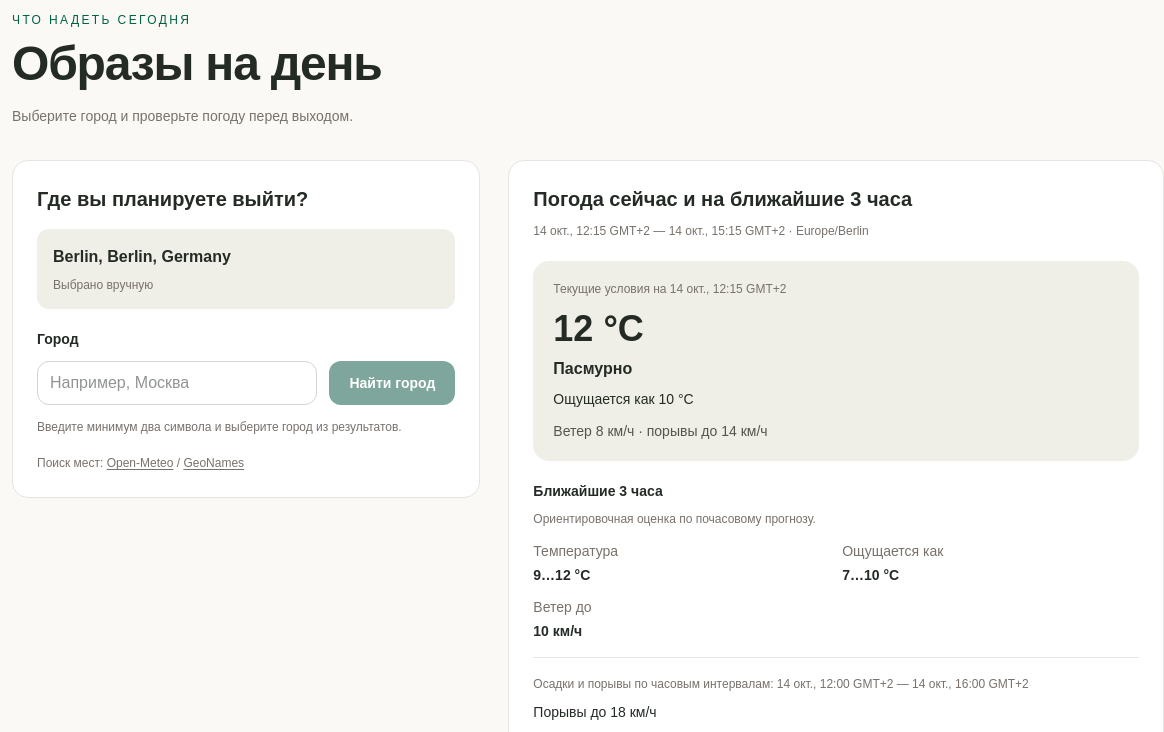
Test case: personal place and weather › searches and explicitly saves a city, then requests weather for the new version
The image size is (1164, 732).
In the field labelled "Город": (177, 383) [37, 361, 318, 405], type "Москва"
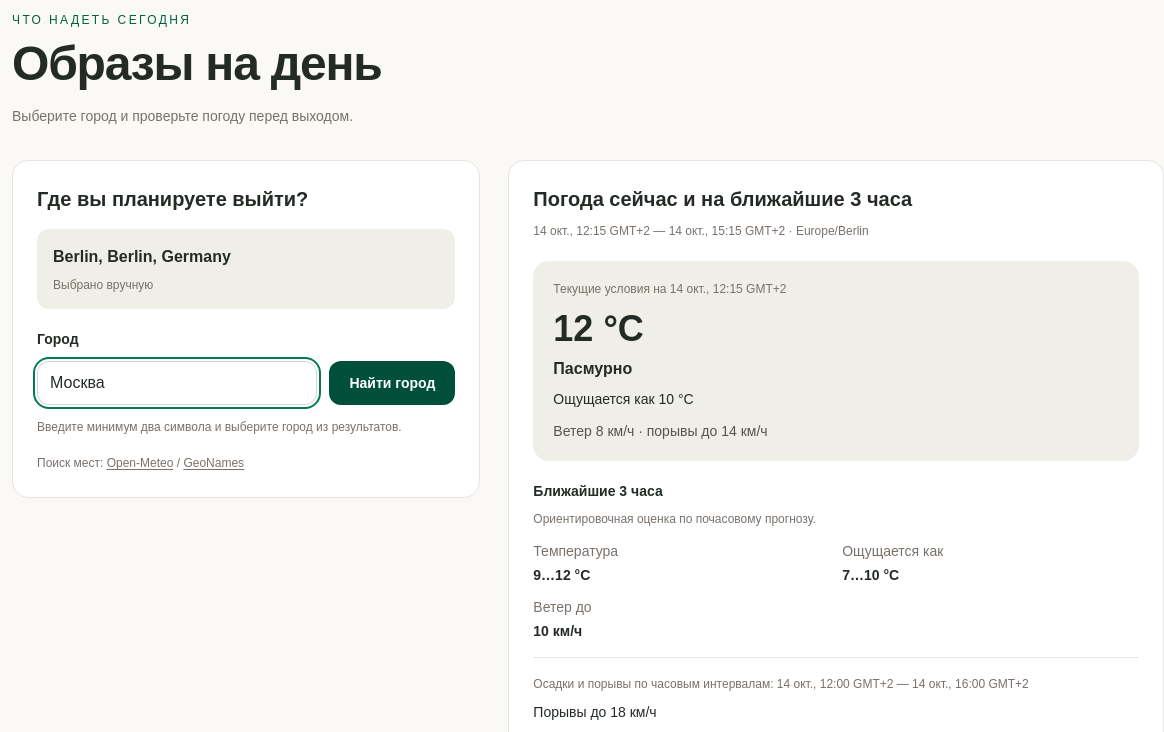
Click the button "Найти город": (392, 383) [330, 361, 455, 405]
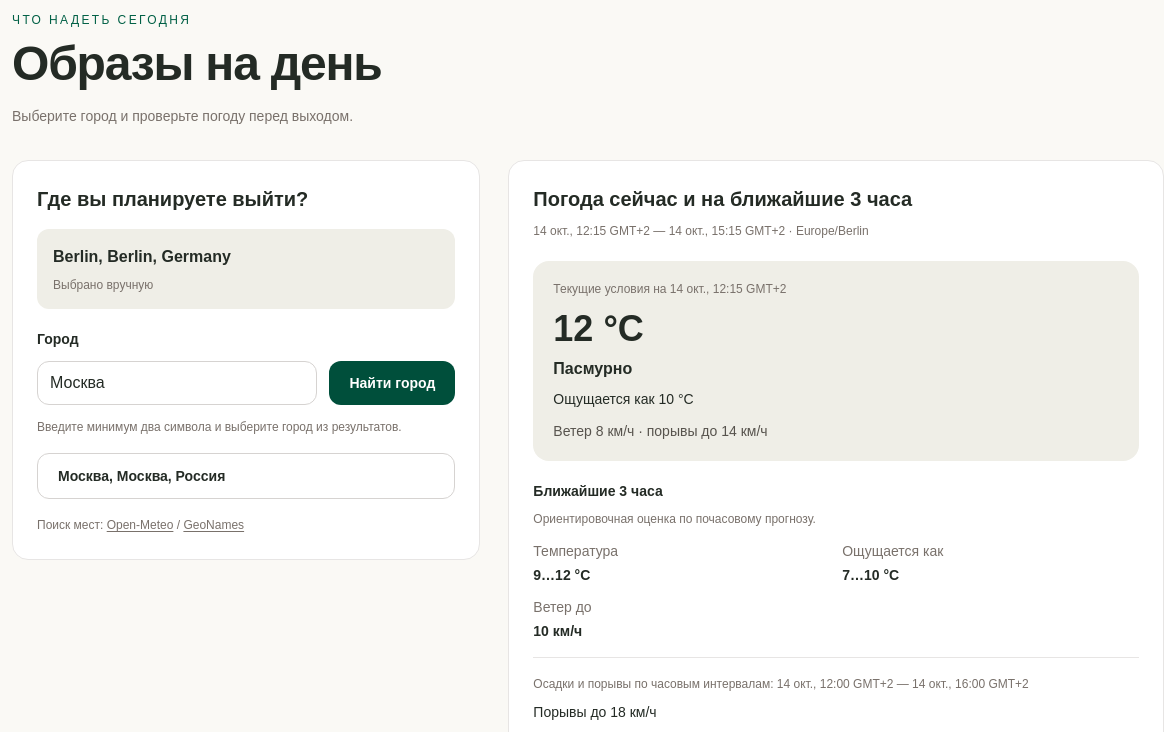
Click the button with aria-label "Выбрать Москва, Москва, Россия": (142, 476) [37, 453, 455, 499]
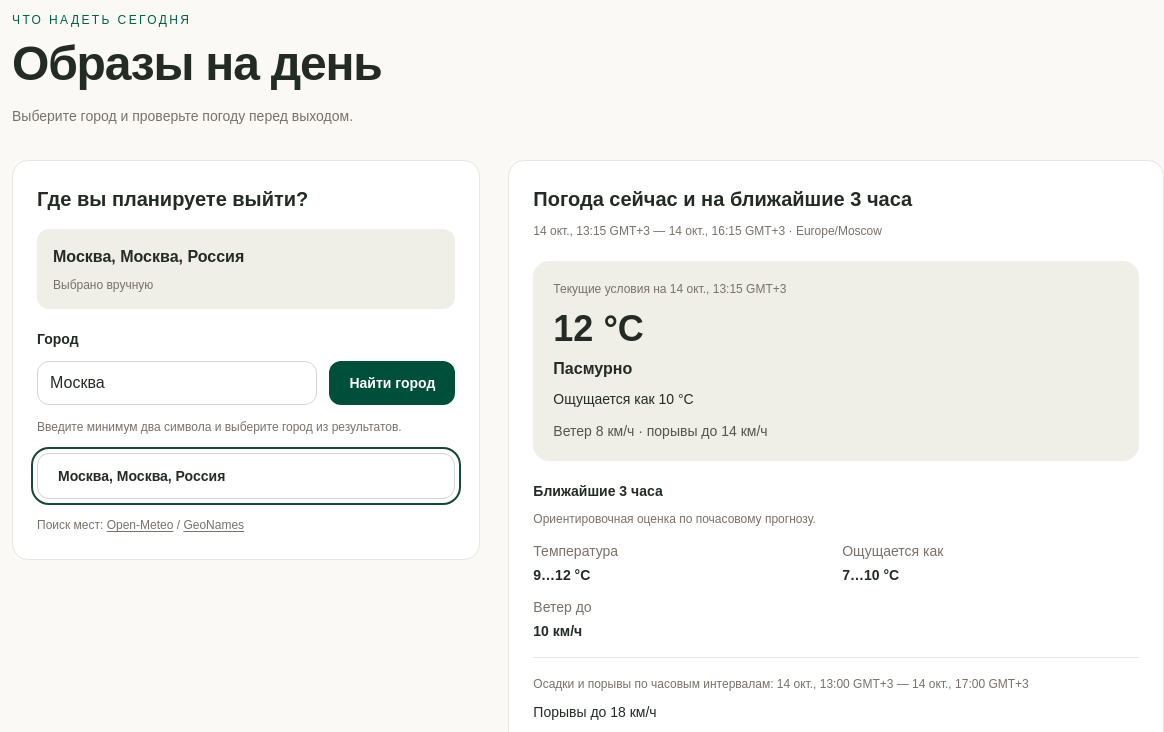
Expected: the text "Москва, Москва, Россия" is shown, [53, 248, 244, 265]
